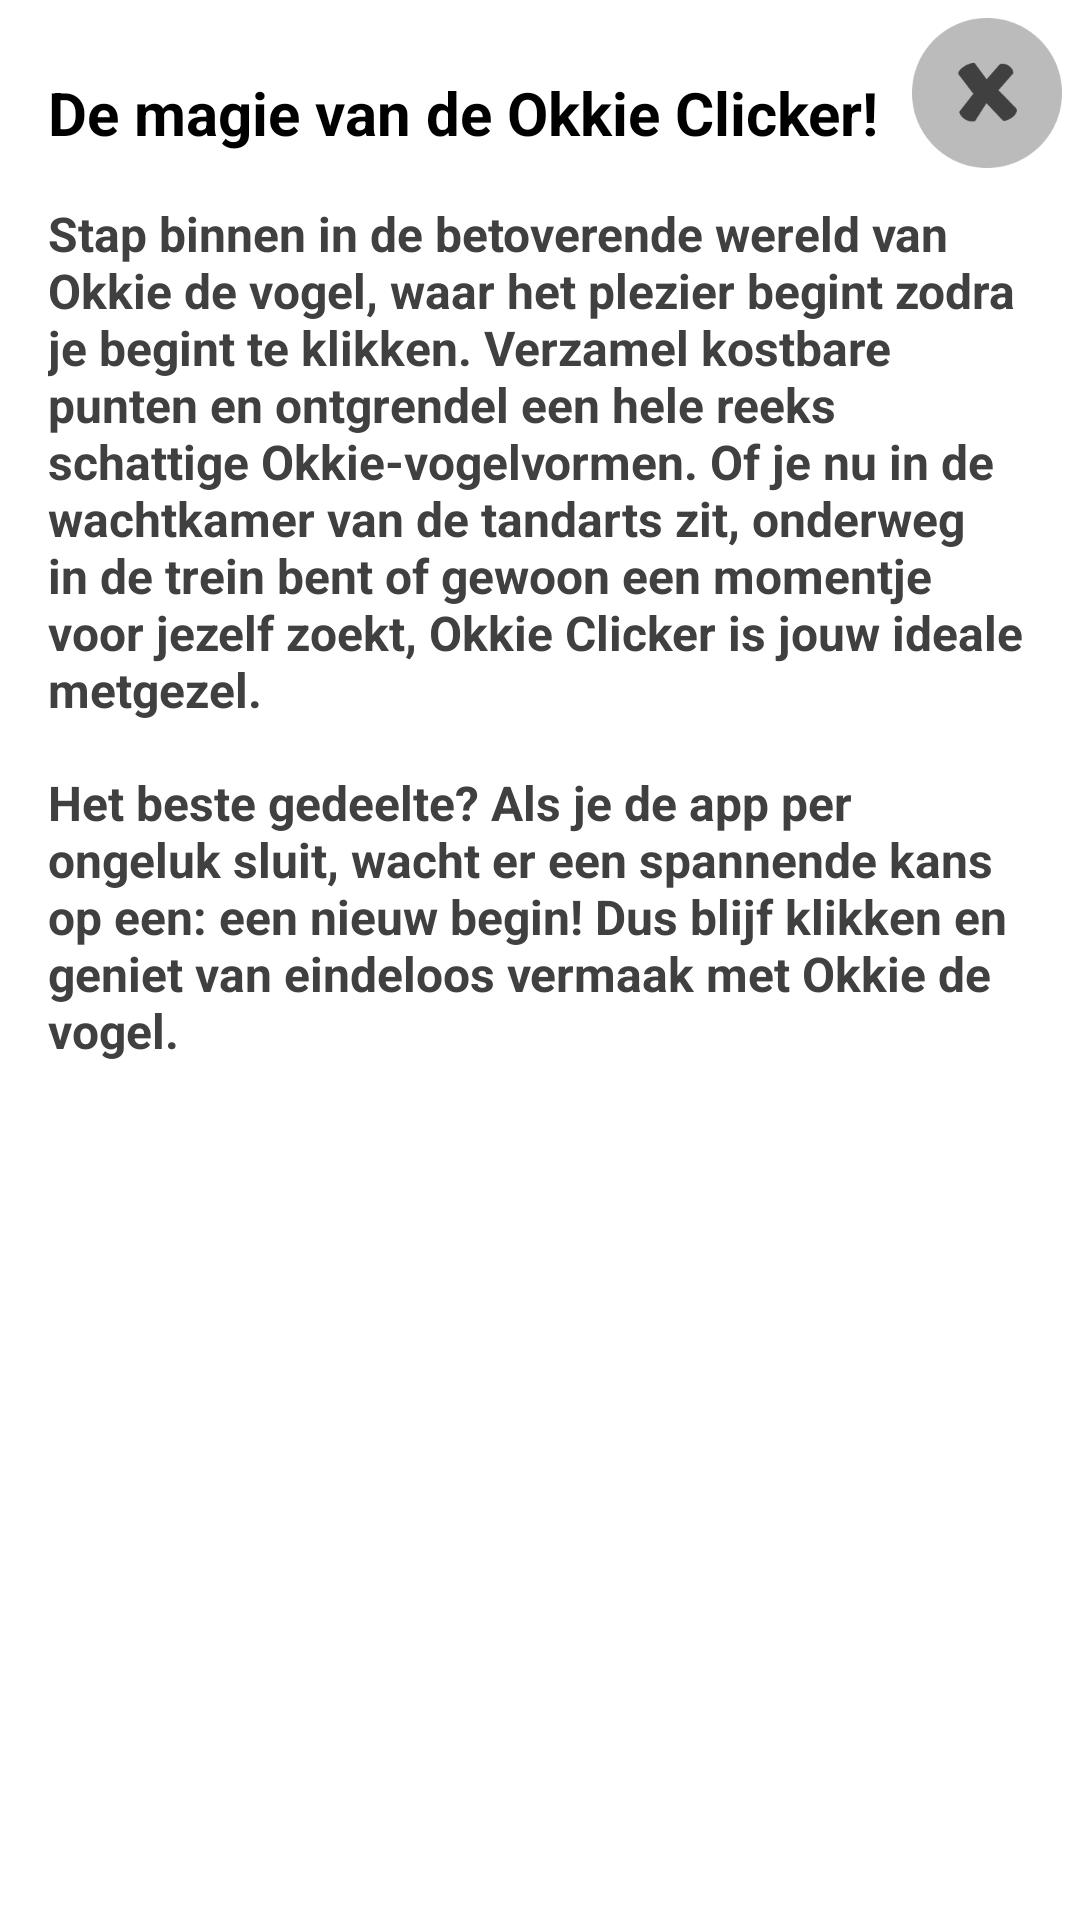

Named icons in this screenshot (1080w x 1920h) and their centers, (x,y):
xross: (987,93)
